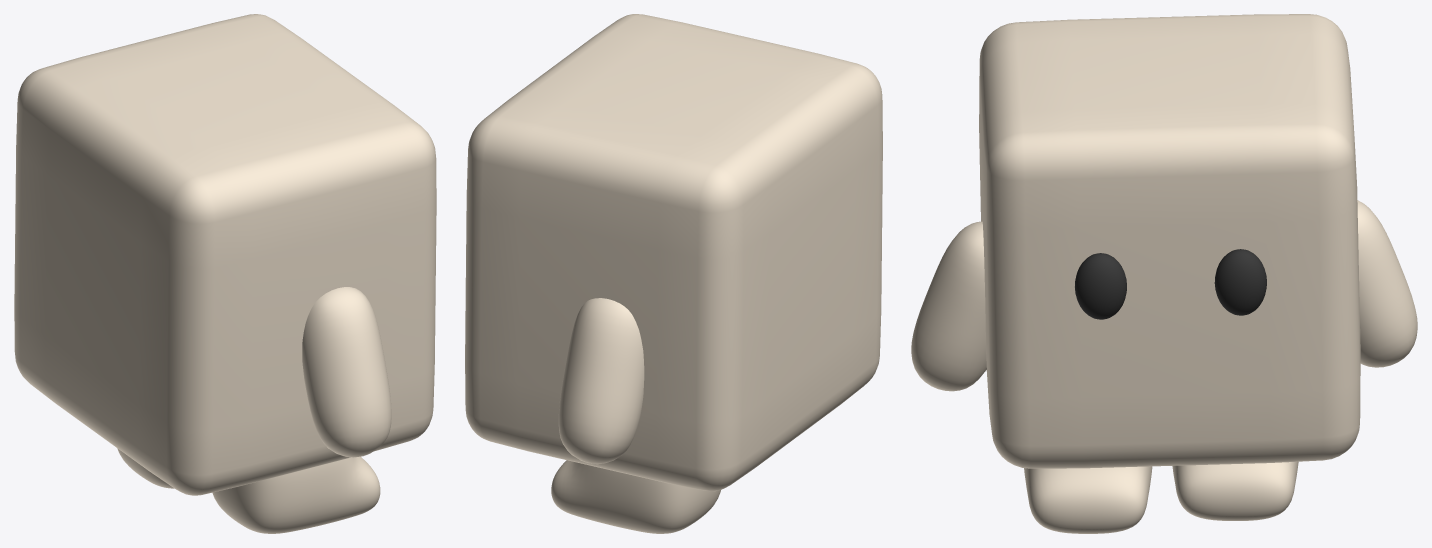
Rendered from 당당이춤.glb.
The picture shows the model from 3 angles, left to right: view 1: azimuth 30°, elevation 25°; view 2: azimuth 150°, elevation 25°; view 3: azimuth 270°, elevation 25°; orthographic projection. The views are drawn at different scales.
Parts seen in each view (by area): view 1: Cube, Cube.001, Cube.004, Cube.005; view 2: Cube, Cube.002, Cube.005; view 3: Cube, Cube.001, Cube.004, Cube.002, Cube.005, Sphere.001, Sphere.
Boxes of the visible parts, x1,y1,x2,y2 form: Cube: (14,14,436,495); Cube.001: (302,287,391,457); Cube.004: (212,456,380,533); Cube.005: (117,448,174,488); Cube: (465,14,882,491); Cube.002: (558,298,644,464); Cube.005: (551,460,720,533); Cube: (979,14,1360,468); Cube.001: (911,221,986,391); Cube.004: (1024,466,1152,533); Cube.002: (1357,200,1417,367); Cube.005: (1172,461,1298,520); Sphere.001: (1214,249,1266,315); Sphere: (1075,253,1126,319).
Bounding box in the file's own units: 1.94 × 2.51 × 2.71.
7 materials, 7 textured.
